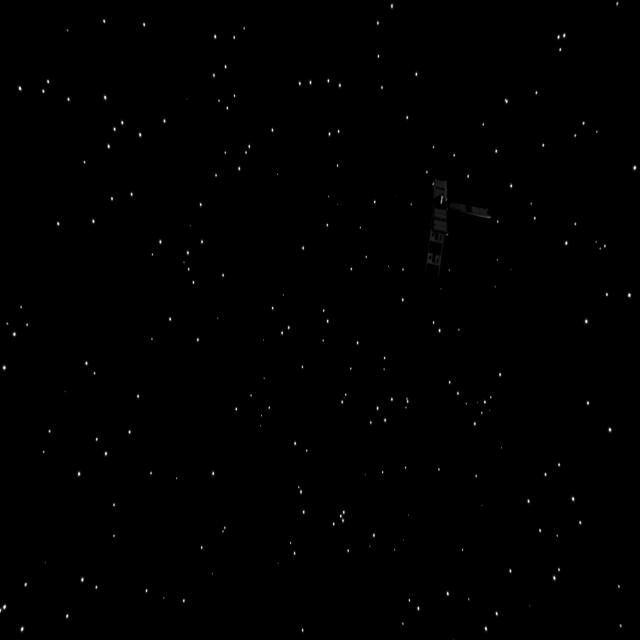satellite: (416, 174, 494, 282)
